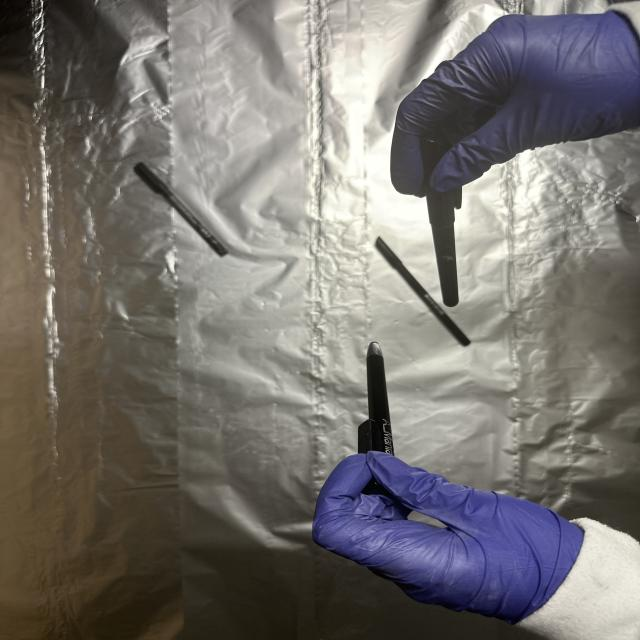gloves_contaminated: (313, 451, 640, 640), (390, 2, 640, 195)
